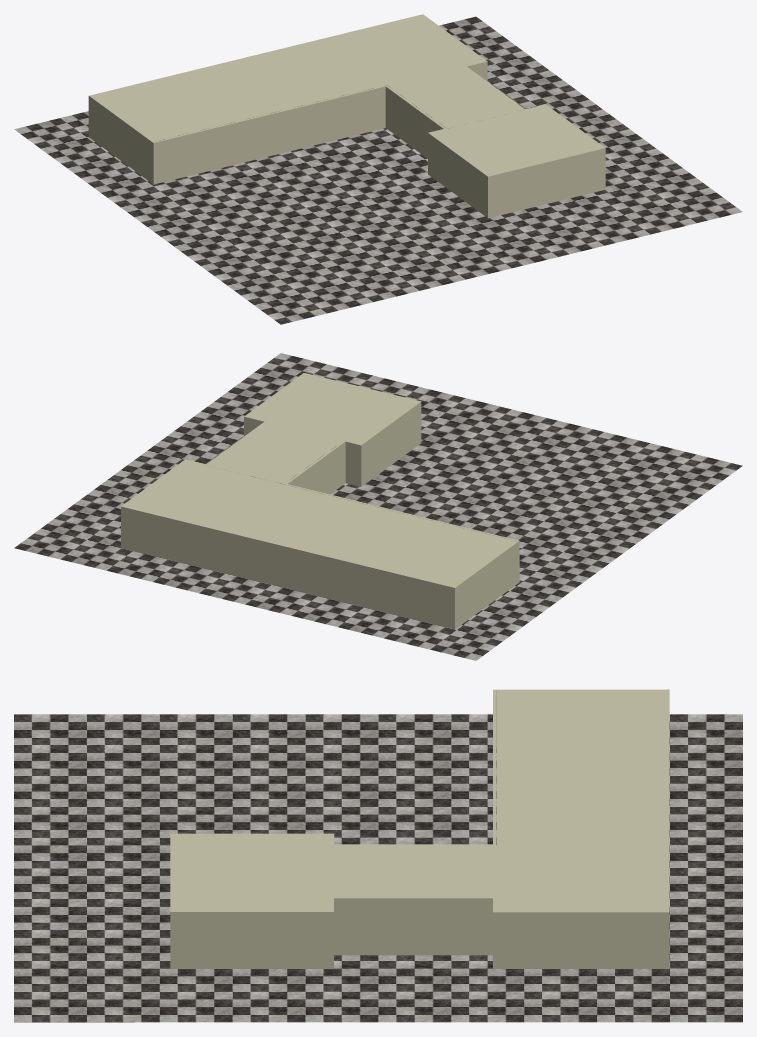
File: сцена(2).fbx
3 renders of one model, top to bottom at view 1: azimuth 30°, elevation 25°; view 2: azimuth 150°, elevation 25°; view 3: azimuth 270°, elevation 25°, orthographic. The views are drawn at different scales.
Visible parts, largest first — view 1: Плоскость, Cube_005; view 2: Плоскость, Cube_005; view 3: Плоскость, Cube_005.
Part boxes in pixels (x1,y1,x2,y2): Плоскость: (14,16,742,324); Cube_005: (88,14,605,218); Плоскость: (14,353,742,660); Cube_005: (121,373,519,629); Плоскость: (14,714,742,1022); Cube_005: (170,689,669,968).
Size of the model in its own units: 9953 by 889 by 9953.
